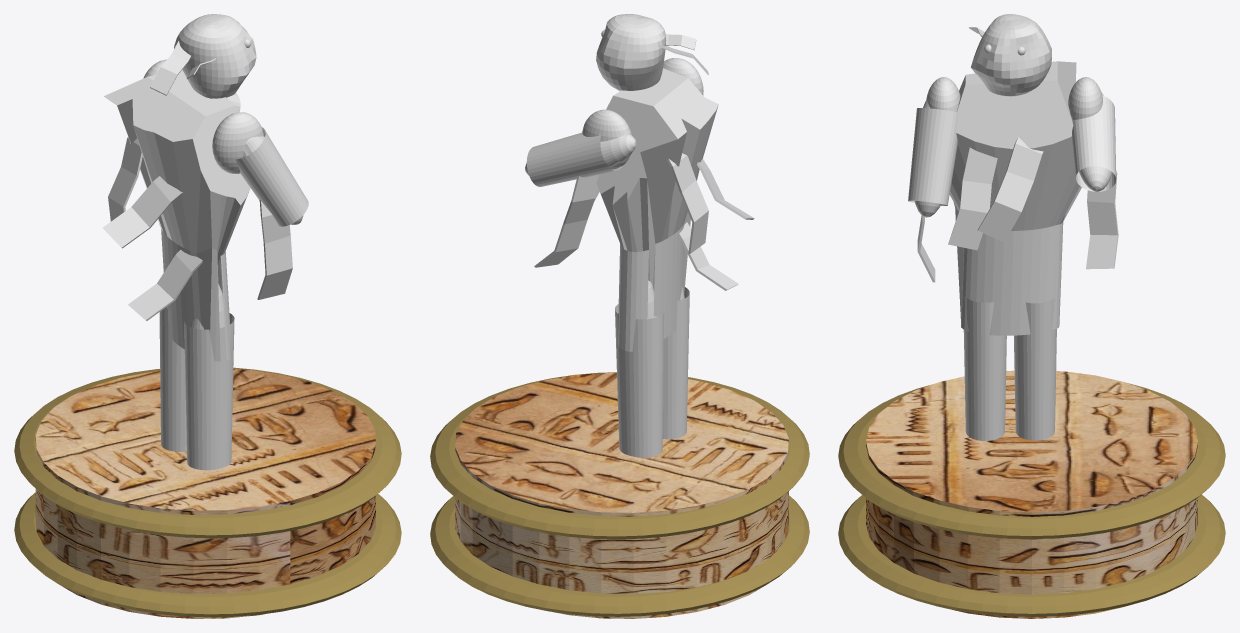
File: mumy.fbx
3 renders of one model, left to right at view 1: azimuth 30°, elevation 25°; view 2: azimuth 150°, elevation 25°; view 3: azimuth 270°, elevation 25°, orthographic. The views are drawn at different scales.
Visible parts, largest first — view 1: Cylinder, Cone, Cube.009, Sphere, Sphere.006, Sphere.002, Sphere.001, Sphere.004; view 2: Cylinder, Cone, Sphere.001, Cube.009, Sphere.006, Sphere.003, Sphere, Sphere.005, Sphere.004; view 3: Cylinder, Cone, Cube.009, Sphere, Sphere.001, Sphere.006, Sphere.002, Sphere.003, Sphere.005, Sphere.004.
Boxes of the visible parts, x1,y1,x2,y2 form: Cylinder: (14, 367, 401, 618); Cone: (104, 70, 250, 361); Cube.009: (102, 41, 292, 320); Sphere: (184, 283, 234, 470); Sphere.006: (174, 14, 256, 98); Sphere.002: (235, 127, 308, 226); Sphere.001: (159, 307, 186, 451); Sphere.004: (212, 112, 263, 173); Cylinder: (430, 372, 809, 618); Cone: (596, 68, 718, 351); Sphere.001: (615, 280, 664, 457); Cube.009: (534, 34, 754, 290); Sphere.006: (596, 14, 666, 90); Sphere.003: (525, 132, 636, 186); Sphere: (663, 287, 689, 439); Sphere.005: (582, 109, 631, 169); Sphere.004: (663, 58, 703, 95); Cylinder: (838, 370, 1225, 618); Cone: (949, 61, 1081, 335); Cube.009: (917, 27, 1118, 282); Sphere: (963, 296, 1006, 440); Sphere.001: (1014, 298, 1056, 440); Sphere.006: (971, 14, 1051, 96); Sphere.002: (908, 99, 958, 217); Sphere.003: (1071, 92, 1116, 191); Sphere.005: (1068, 77, 1102, 119); Sphere.004: (926, 77, 960, 111).
Size of the model in its own units: 157 by 240 by 160.
